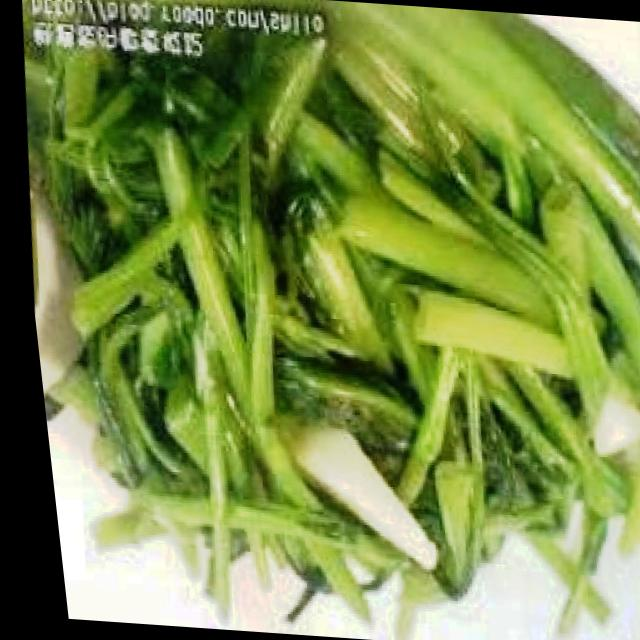water_spinach: (5, 48, 640, 640)
